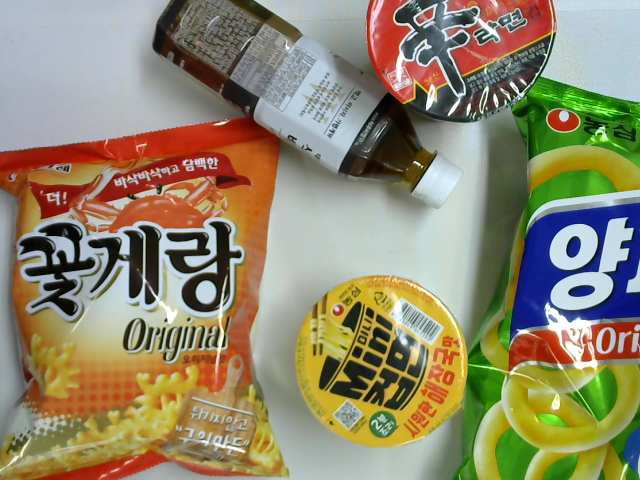Crabrang: (1, 111, 290, 477)
Hejangmini: (292, 273, 469, 449)
Oninon_Ring: (450, 74, 639, 479)
Post-meal_recipe_W_tea_500ml: (146, 1, 465, 211)
Sinramen_small: (363, 1, 558, 124)
